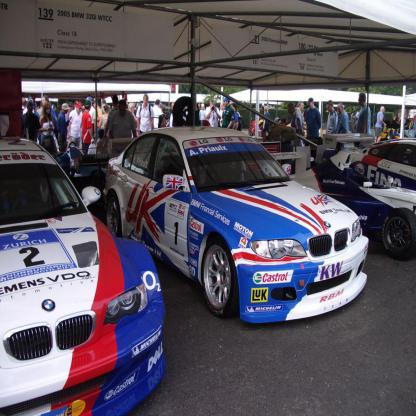face: (120, 106, 127, 115), (47, 107, 51, 115), (43, 99, 47, 107), (338, 107, 342, 114), (328, 105, 332, 112), (289, 108, 293, 115), (29, 108, 33, 115), (359, 98, 362, 106), (309, 103, 313, 109), (211, 104, 215, 110), (145, 99, 149, 105), (78, 108, 82, 114), (302, 104, 305, 111), (172, 105, 175, 111), (133, 107, 136, 113), (230, 103, 233, 108), (221, 105, 224, 110), (94, 103, 97, 108), (66, 110, 69, 115), (99, 134, 102, 139), (225, 101, 227, 107), (202, 106, 205, 110), (71, 107, 74, 111), (233, 107, 235, 112), (160, 103, 162, 108), (200, 106, 202, 111), (399, 115, 401, 119), (384, 109, 386, 113)
